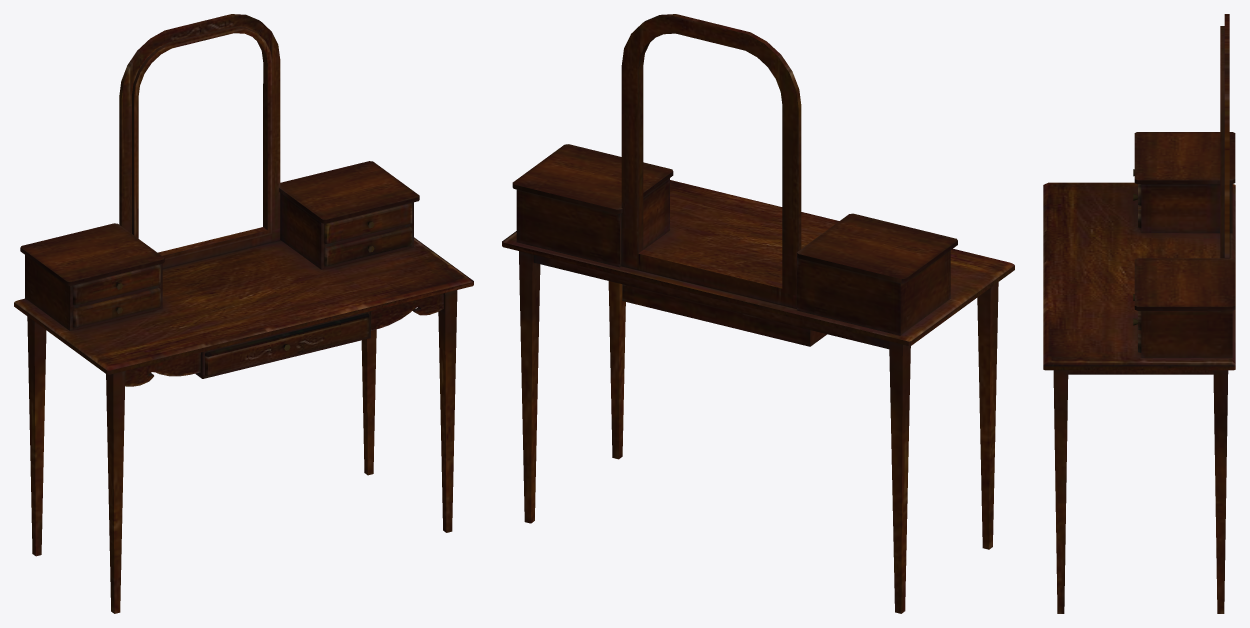
Rendered from si-frisiertisch.glb.
The picture shows the model from 3 angles, left to right: view 1: azimuth 30°, elevation 25°; view 2: azimuth 150°, elevation 25°; view 3: azimuth 270°, elevation 25°; orthographic projection. The views are drawn at different scales.
Visible parts, largest first — view 1: si-frisiertisch; view 2: si-frisiertisch; view 3: si-frisiertisch.
Part boxes in pixels (x1,y1,x2,y2): si-frisiertisch: (14, 14, 473, 613); si-frisiertisch: (502, 14, 1014, 613); si-frisiertisch: (1043, 14, 1235, 613).
Size of the model in its own units: 1.05 by 1.34 by 0.4696.
Materials: 1 (1 with a texture image).
